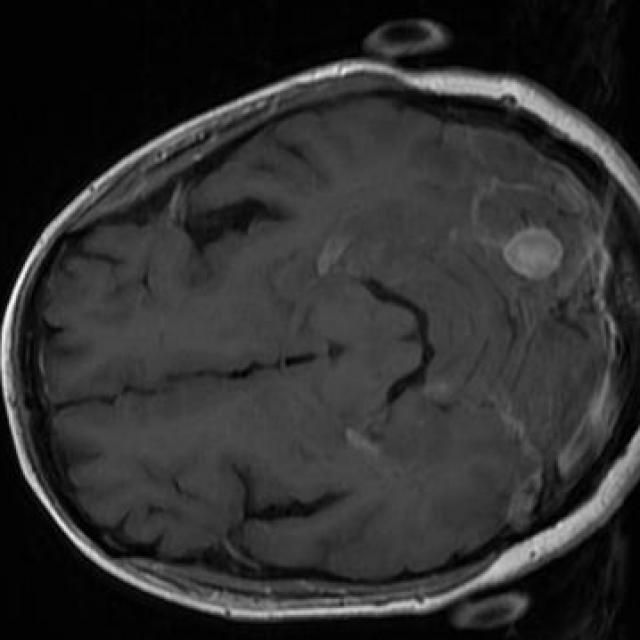meningioma: (503, 226, 563, 282)
